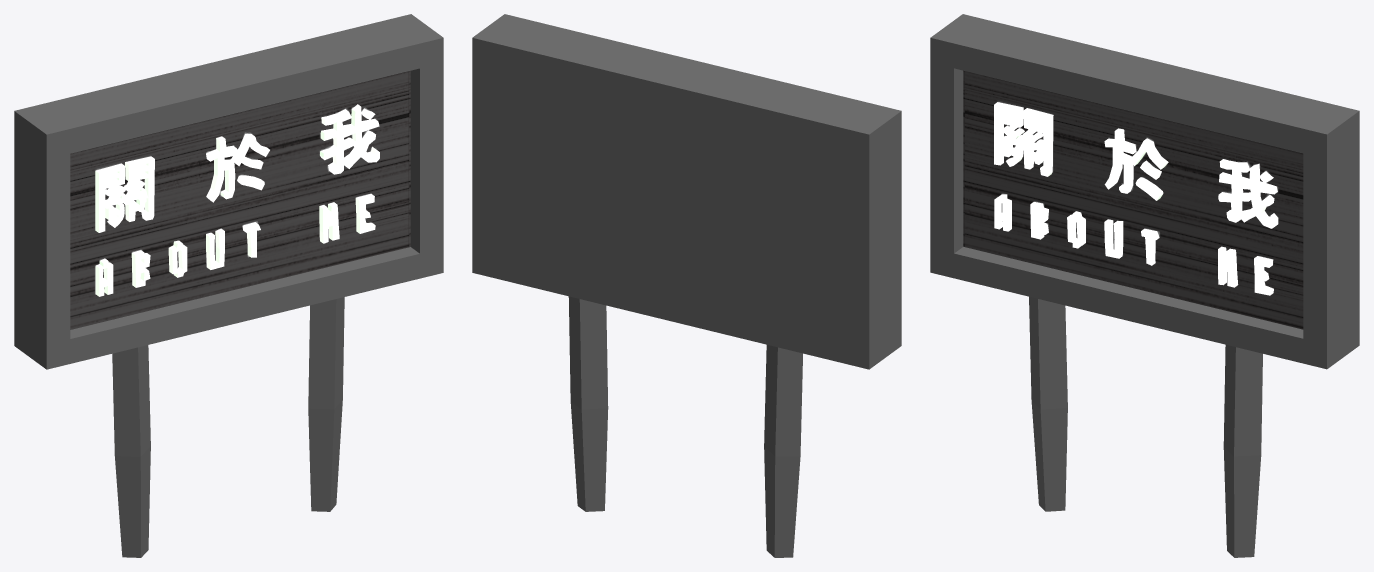
3 views of the same model, side by side, from view 1: azimuth 30°, elevation 25°; view 2: azimuth 150°, elevation 25°; view 3: azimuth 330°, elevation 25° (orthographic).
Parts seen in each view (by area): view 1: Cube; view 2: Cube; view 3: Cube.
Part boxes in pixels (x1,y1,x2,y2): Cube: [14, 14, 443, 557]; Cube: [472, 14, 901, 557]; Cube: [930, 14, 1359, 557].
Bounding box in the file's own units: 1.25 × 1.38 × 0.1772.
3 materials, 1 textured.
